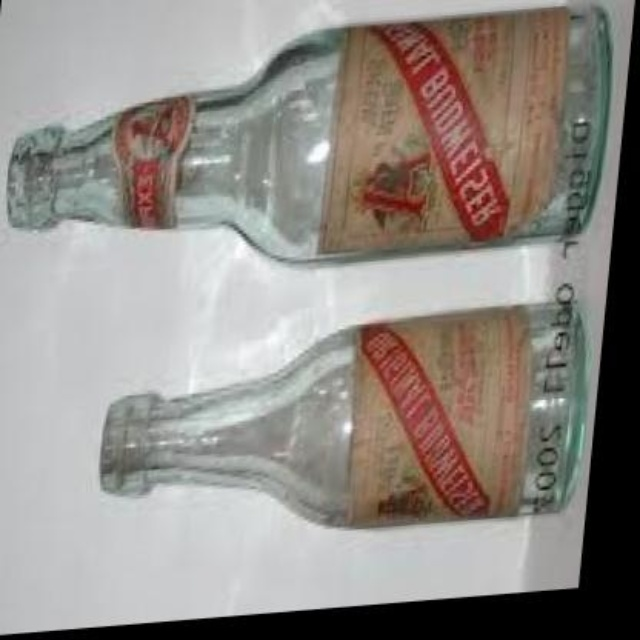trash: (6, 6, 608, 258), (100, 283, 580, 525)
